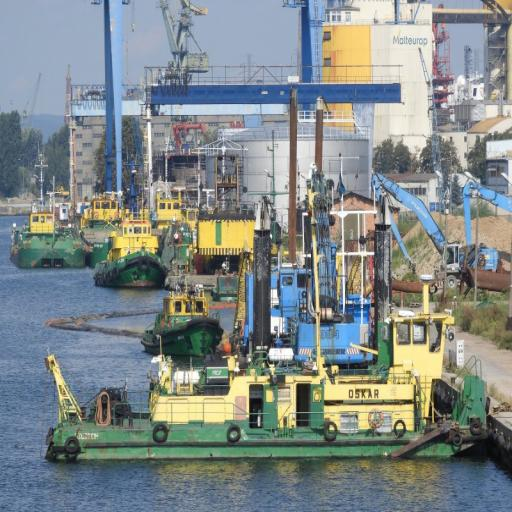tugboat: (38, 308, 497, 468), (9, 158, 88, 275), (141, 283, 225, 363), (93, 218, 171, 295), (84, 191, 144, 260)
